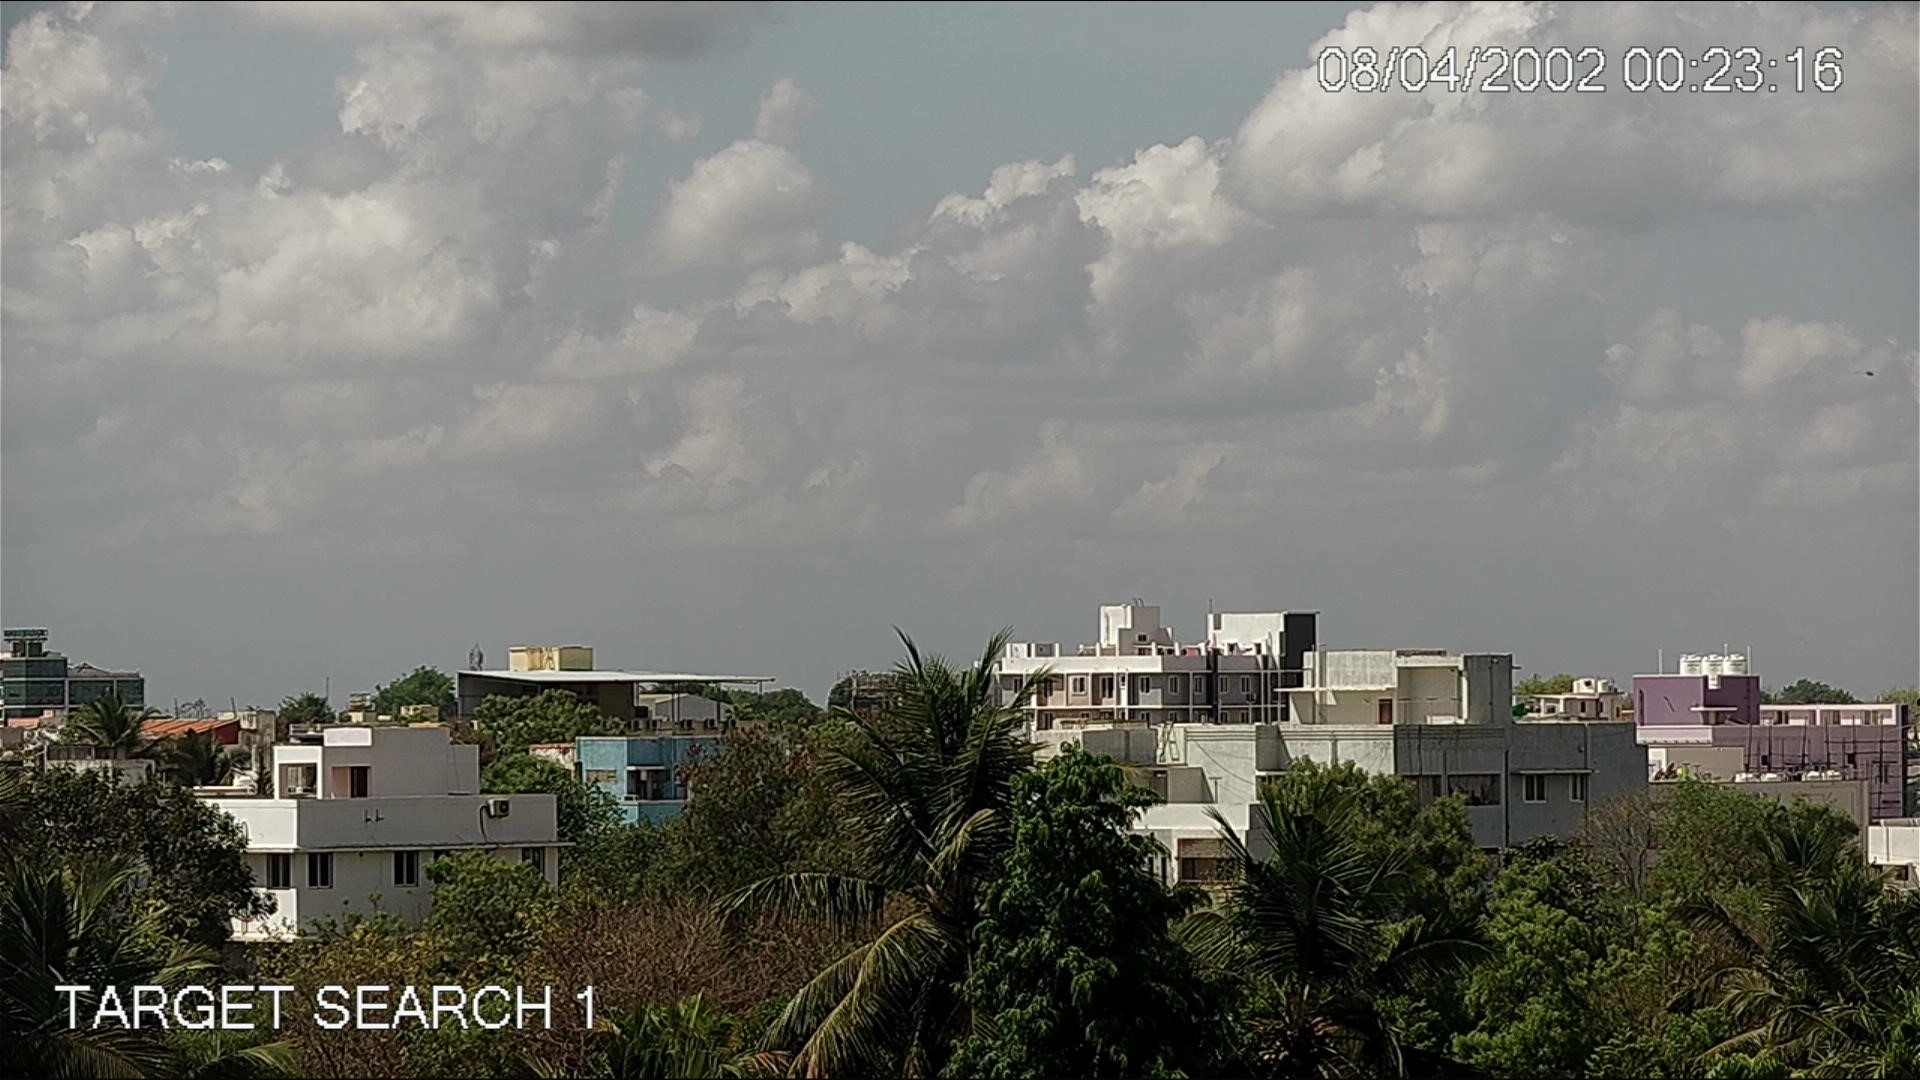SU_30: (1849, 367, 1878, 382)
